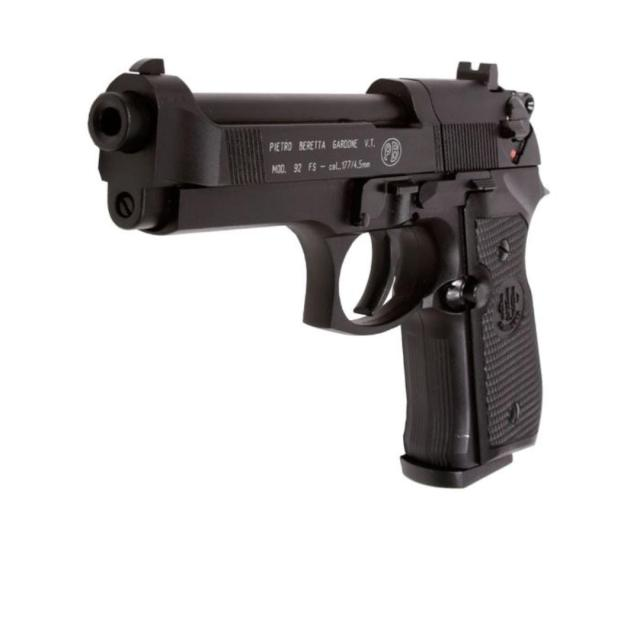Gun: (58, 56, 600, 508)
